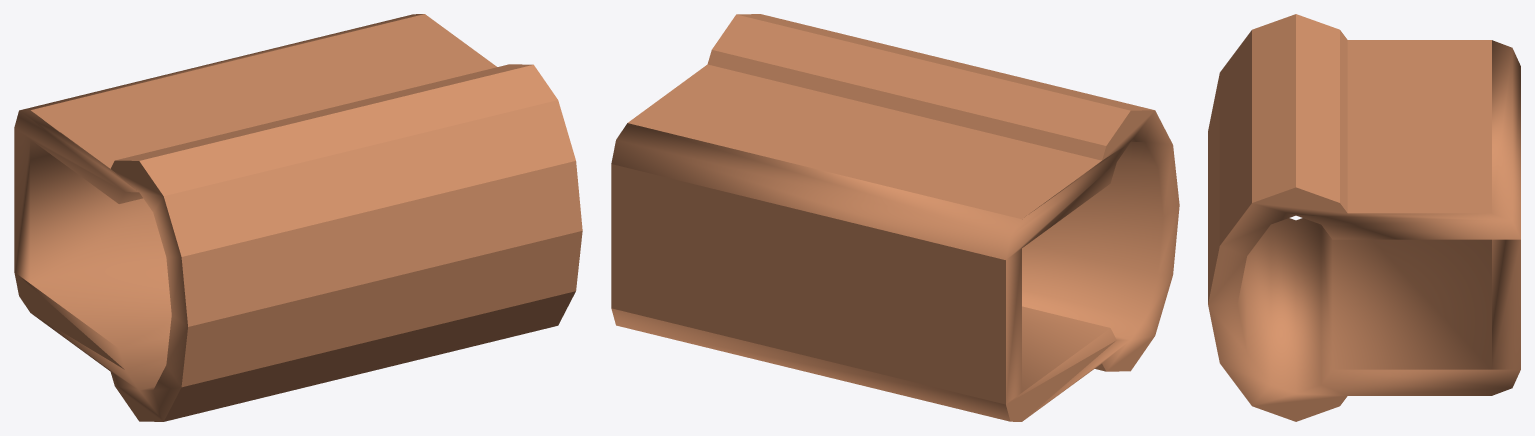
File: loaf_crust.obj
The picture shows the model from 3 angles, left to right: view 1: azimuth 30°, elevation 25°; view 2: azimuth 150°, elevation 25°; view 3: azimuth 270°, elevation 25°; orthographic projection. The views are drawn at different scales.
Parts seen in each view (by area): view 1: loaf.001_loaf.003; view 2: loaf.001_loaf.003; view 3: loaf.001_loaf.003.
Part boxes in pixels (x1,y1,x2,y2): loaf.001_loaf.003: (14,14,582,421); loaf.001_loaf.003: (611,14,1179,421); loaf.001_loaf.003: (1208,14,1520,421).
Size of the model in its own units: 0.2174 by 0.1372 by 0.1659.
